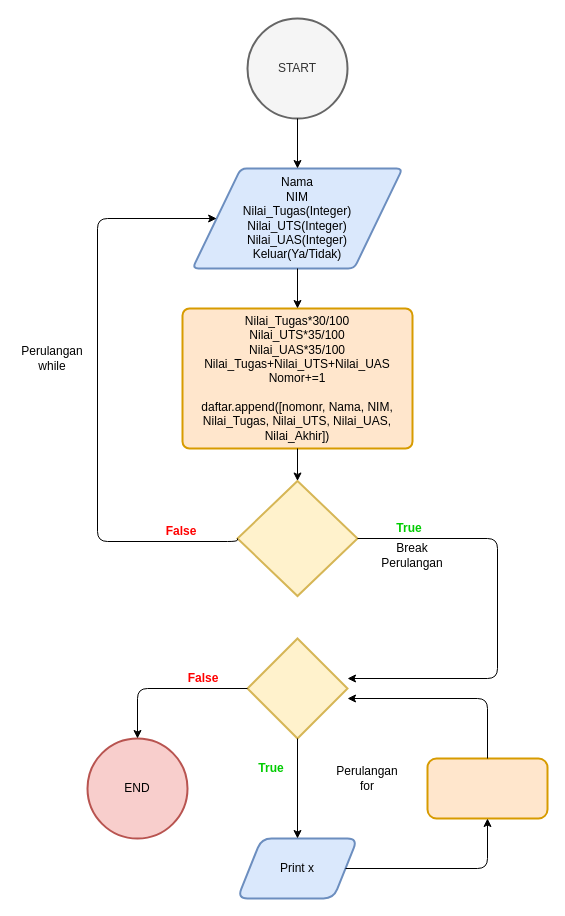
The diagram is 565 pixels wide and 916 high, and some of its shapes have lost their labels. Here are the shapes that lost their labels. From the top down, the centre of each, then its label:
(x=297, y=538): Keluar == "Tidak"?
(x=297, y=688): x == daftar?
(x=487, y=788): x =+ 1
